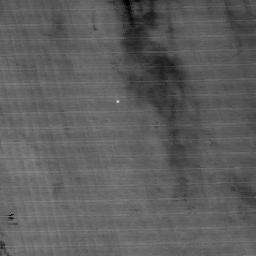Target: (113, 98, 121, 104)
